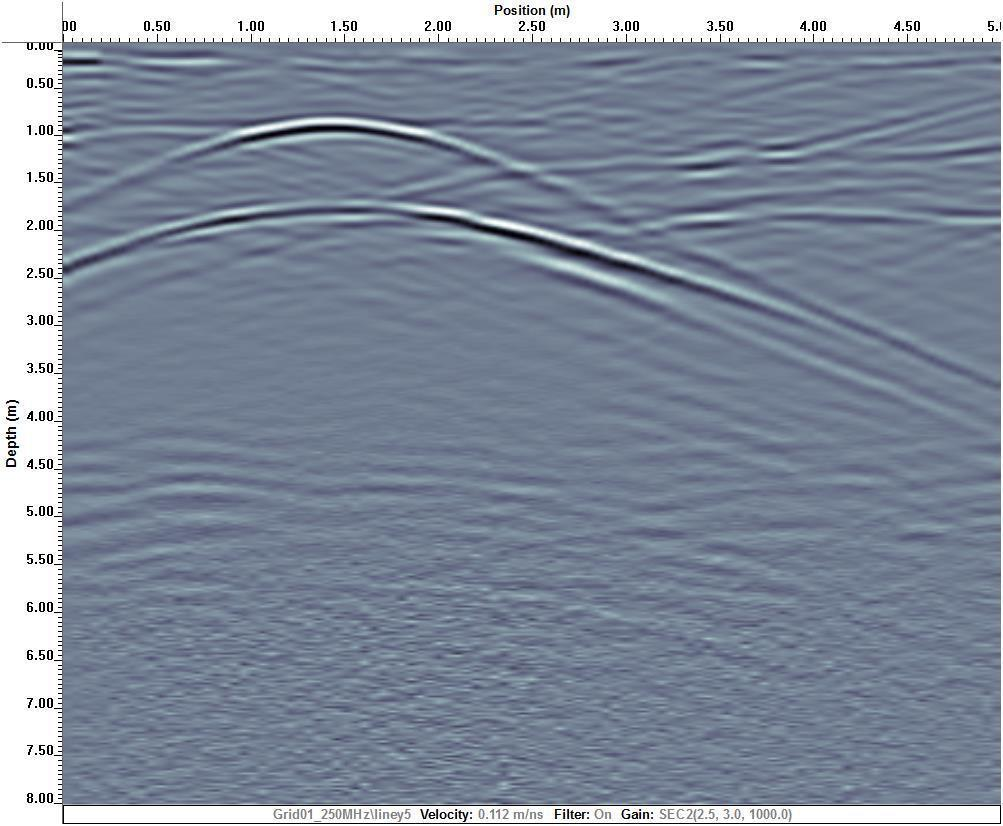Hyperbola: (66, 88, 1003, 406), (74, 202, 968, 382)
